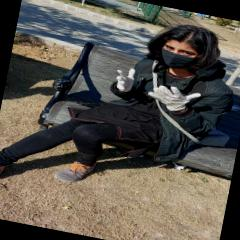gloved: (145, 82, 200, 114), (114, 65, 137, 93)
